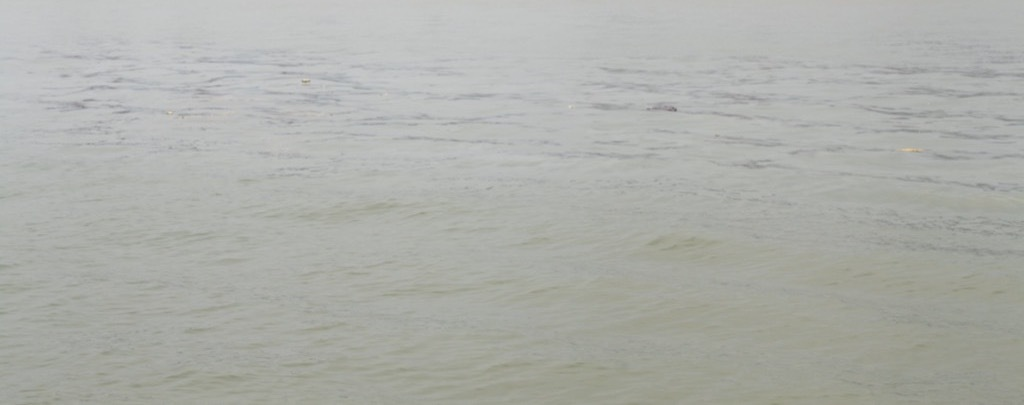organic: (637, 96, 688, 120)
plastic: (888, 135, 929, 165), (559, 94, 586, 121), (293, 70, 320, 91), (158, 104, 184, 123)
